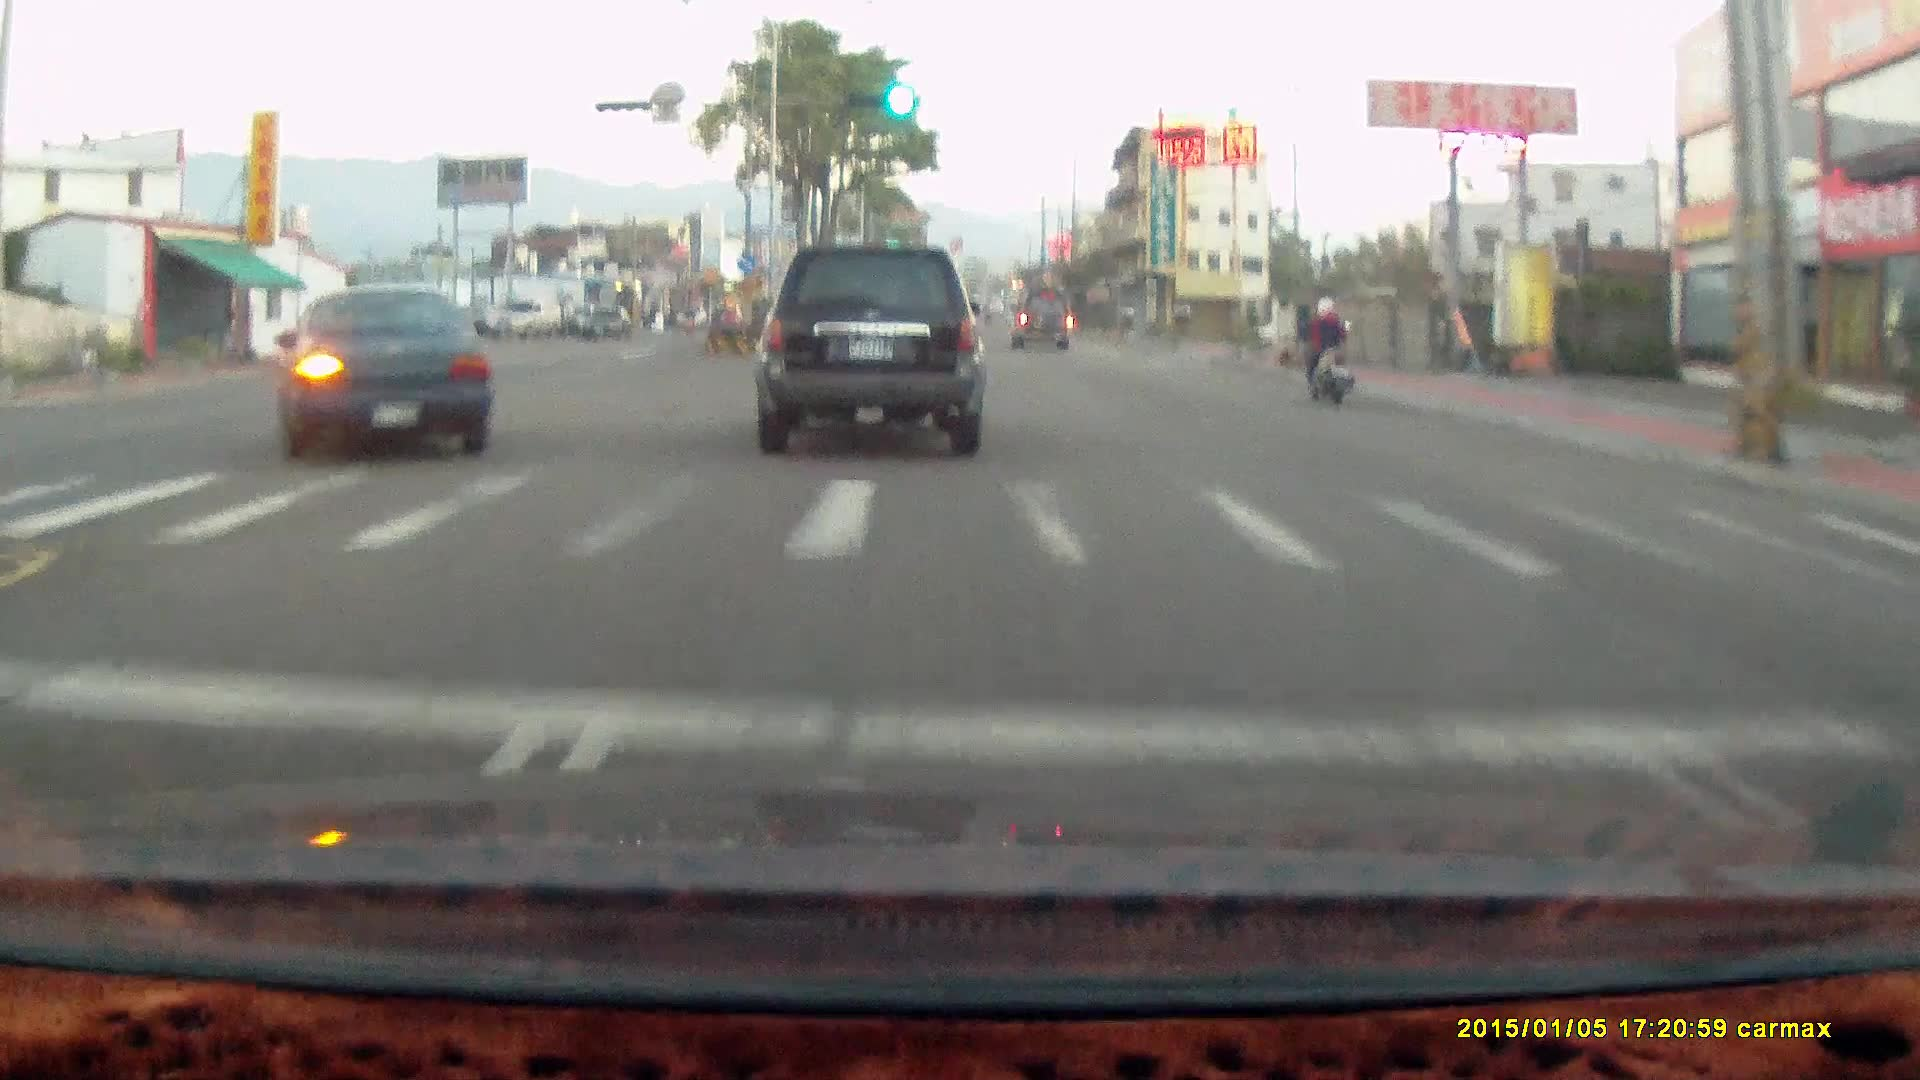rider: (1288, 288, 1366, 418), (1299, 292, 1356, 406)
vehicle: (760, 246, 990, 459), (753, 244, 982, 456), (280, 283, 494, 466), (273, 287, 493, 464), (1014, 291, 1075, 360), (1008, 292, 1072, 352), (487, 298, 561, 342), (579, 304, 632, 339)
